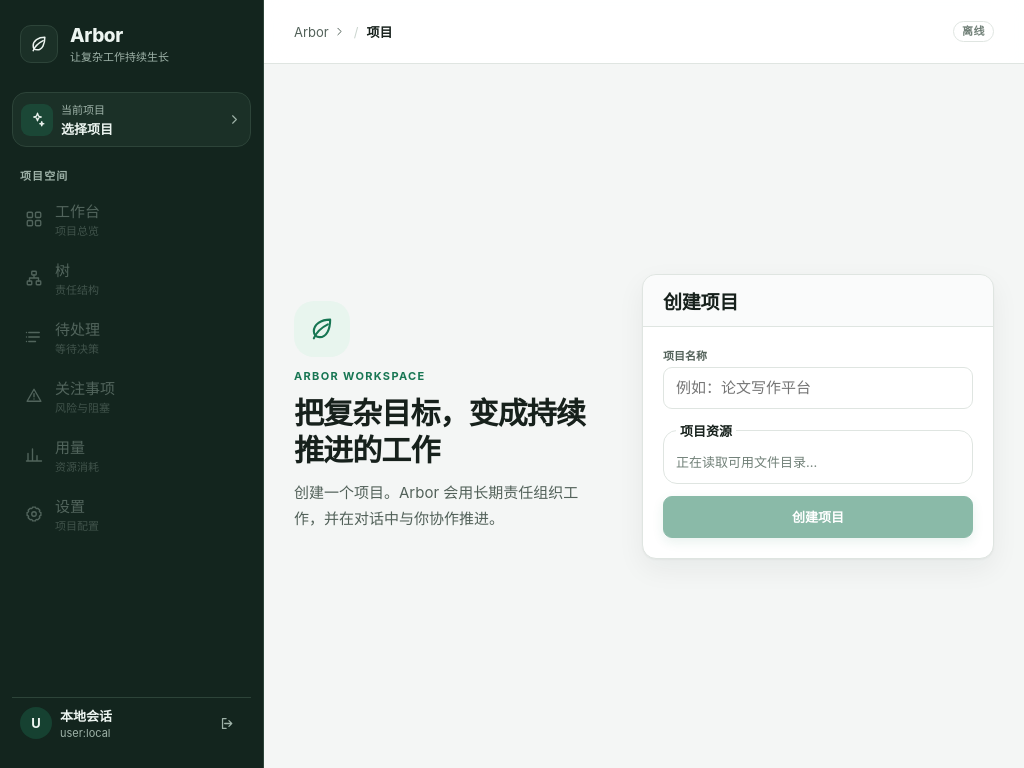
Scenario: Web v1 shell integration smoke (W-02) › uses the same project center from the compact topbar
Click the button with aria-label "打开项目中心" at (320,32), box [294,24,346,40]
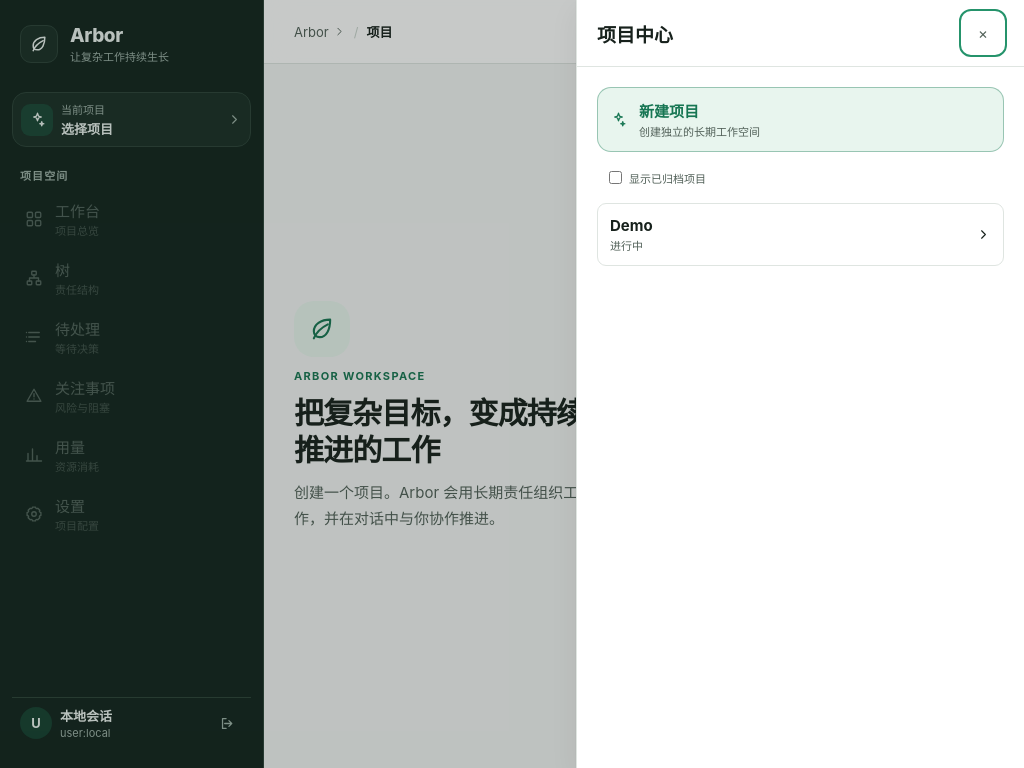
Click the button "新建项目 创建独立的长期工作空间" at (669,112), box [597,87,1004,152]
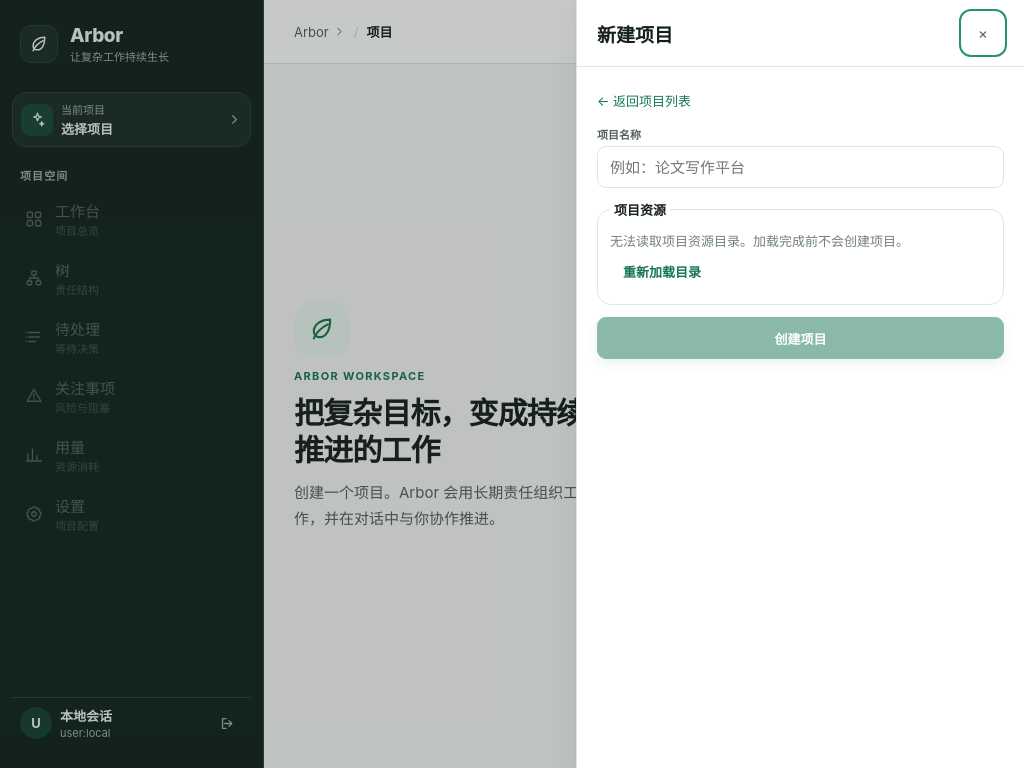
expect the field labelled "项目名称" is shown: met, box [597,146,1004,188]
